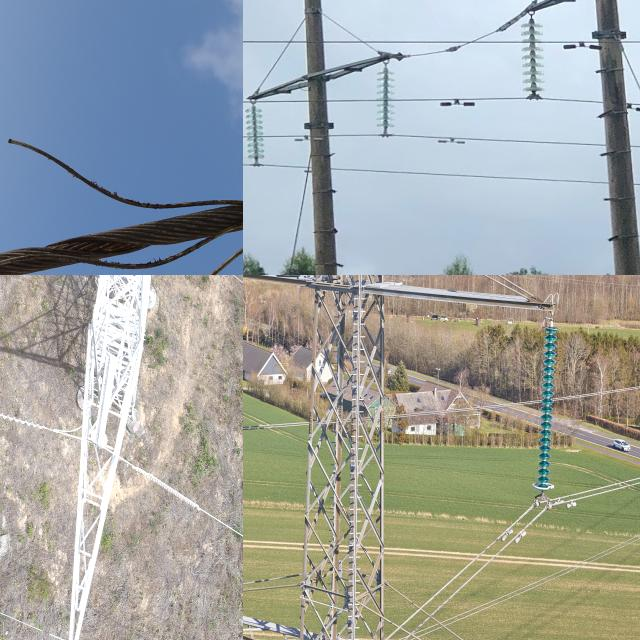杆塔: (243, 275, 610, 640), (243, 0, 399, 275), (515, 0, 640, 275), (67, 275, 160, 640)
正常绝缘子: (533, 320, 561, 498), (517, 14, 549, 99), (243, 91, 267, 174), (371, 58, 396, 136)
电缆破损: (0, 108, 243, 275)
